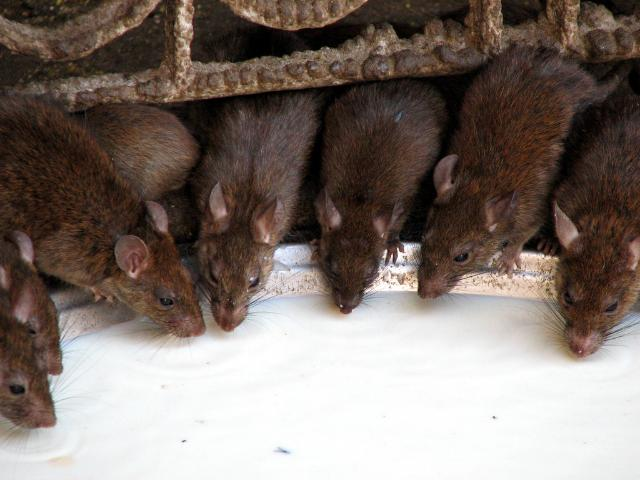rat: (26, 131, 212, 355), (403, 112, 547, 312), (300, 105, 416, 324), (535, 130, 639, 372), (180, 135, 296, 343), (0, 308, 70, 450)
